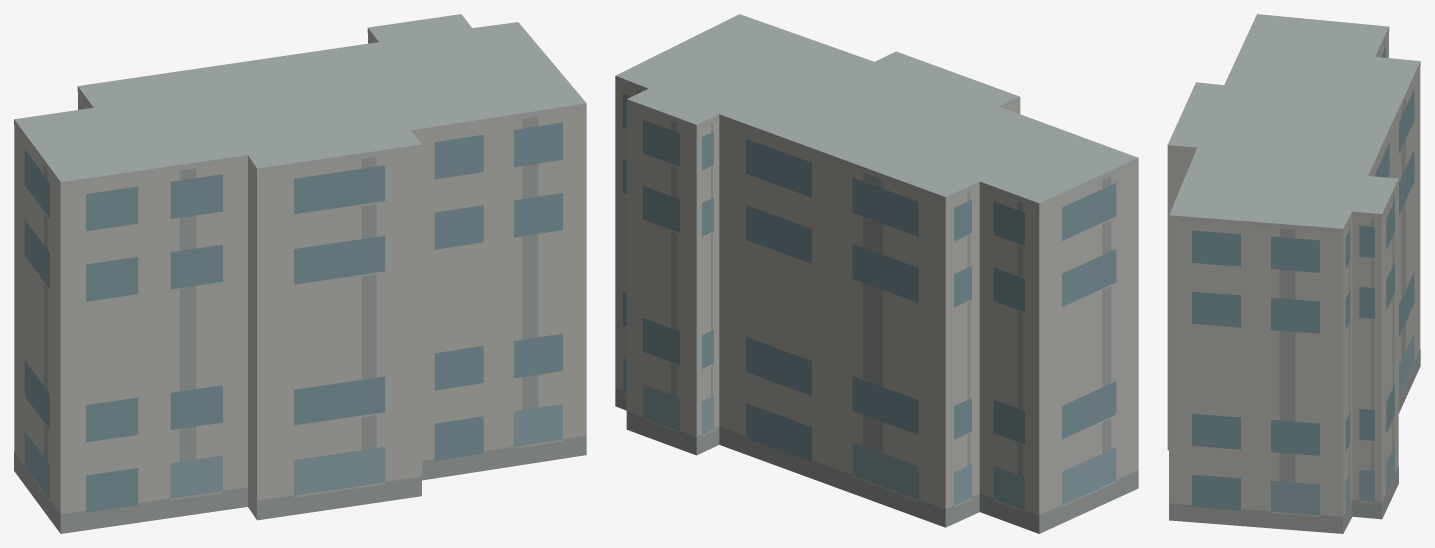
File: survey-upis-33012228.glb
3 renders of one model, left to right at view 1: azimuth 30°, elevation 25°; view 2: azimuth 150°, elevation 25°; view 3: azimuth 270°, elevation 25°, orthographic. The views are drawn at different scales.
Parts seen in each view (by area): view 1: survey-upis-33012228.tmp; view 2: survey-upis-33012228.tmp; view 3: survey-upis-33012228.tmp.
Part boxes in pixels (bbox=[...]): survey-upis-33012228.tmp: bbox=[14, 14, 586, 533]; survey-upis-33012228.tmp: bbox=[615, 14, 1138, 533]; survey-upis-33012228.tmp: bbox=[1167, 14, 1420, 533].
Bounding box in the file's own units: 21.89 × 14.5 × 10.9.
